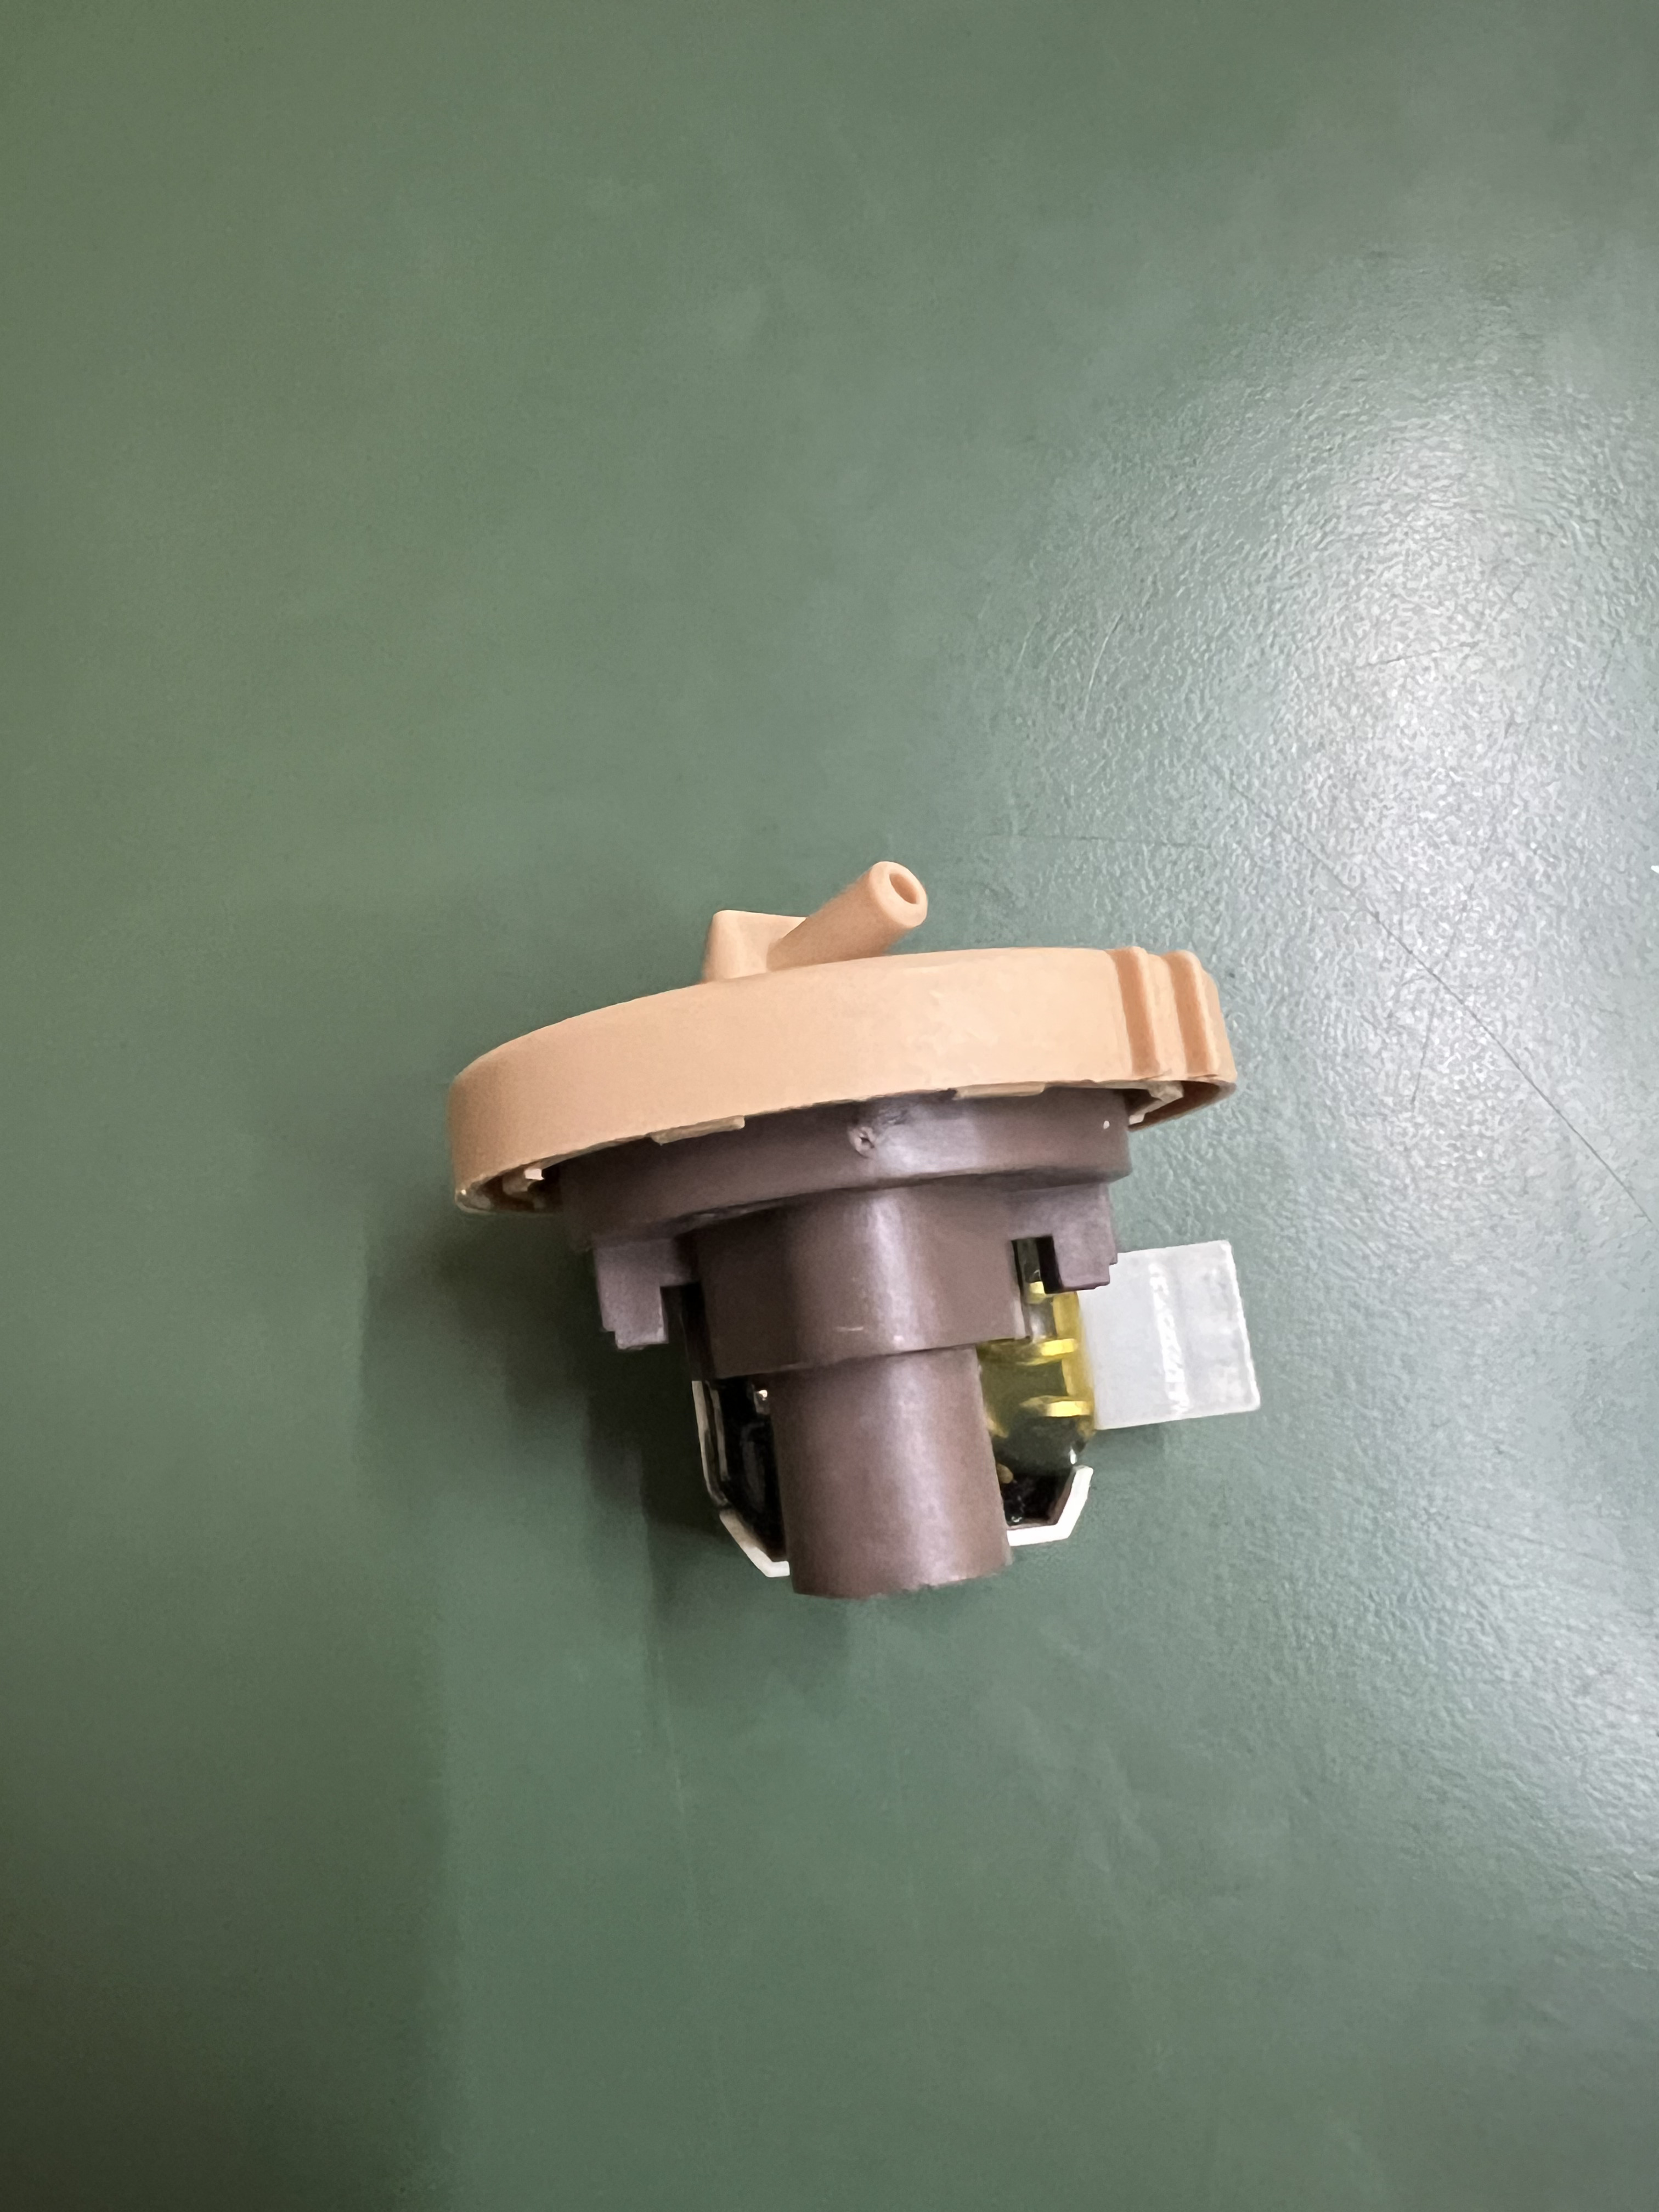pressure_sensor: (389, 862, 1281, 1578)
